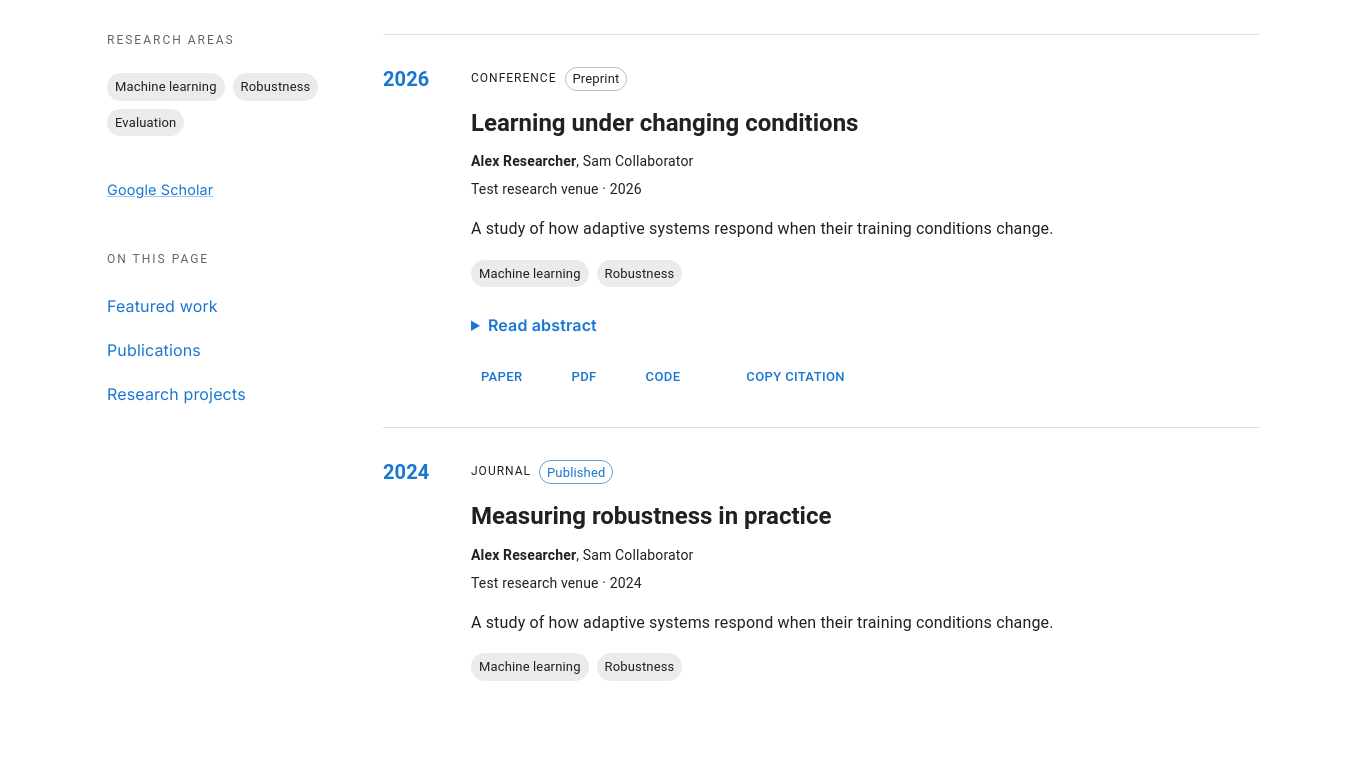
Test case: offers a manual citation when clipboard access fails
(page scrolled)
Click the button "Copy citation" at (785, 377), box [719,355,850,399]
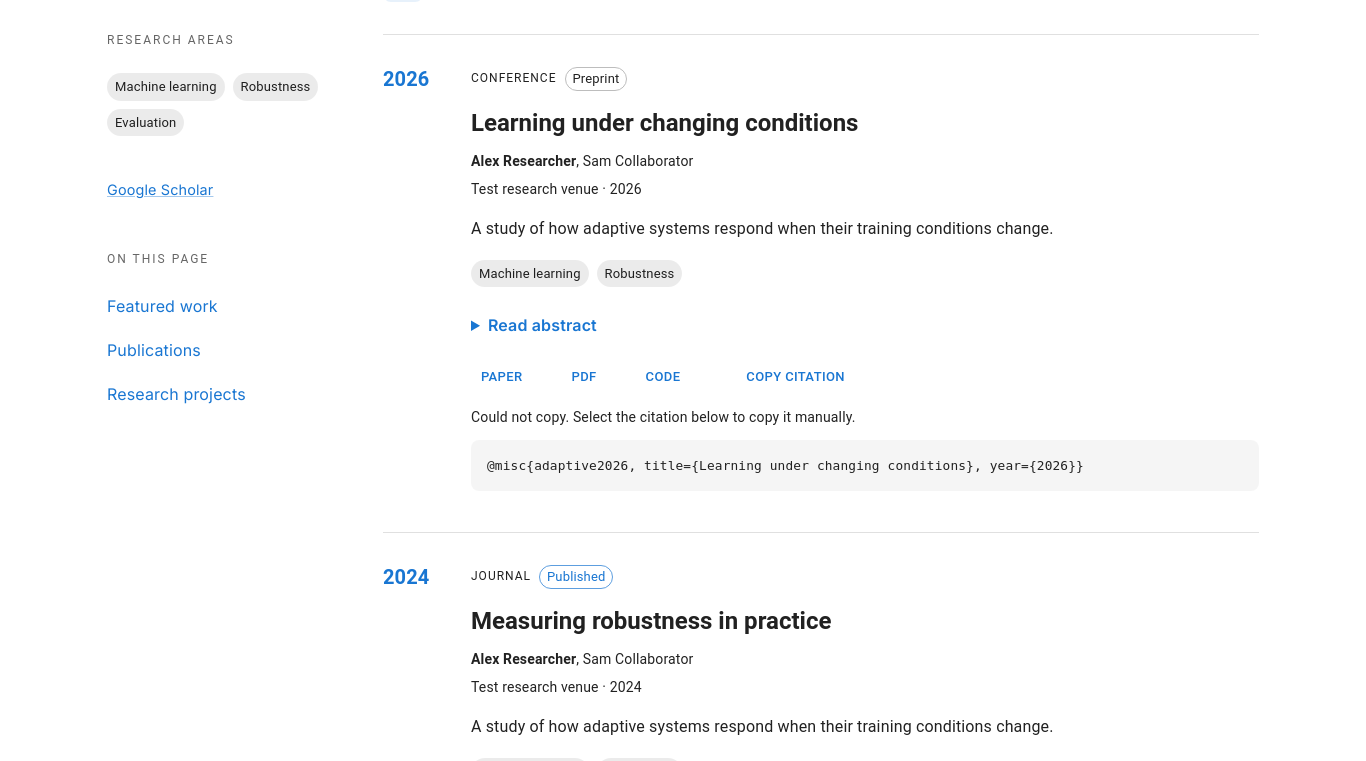
Result: the text "Could not copy. Select the citation below to copy it manually." is shown at [471,409,856,425]
Result: the text "@misc{adaptive2026, title={Learning under changing conditions}, year={2026}}" is shown at [471,440,1259,491]
